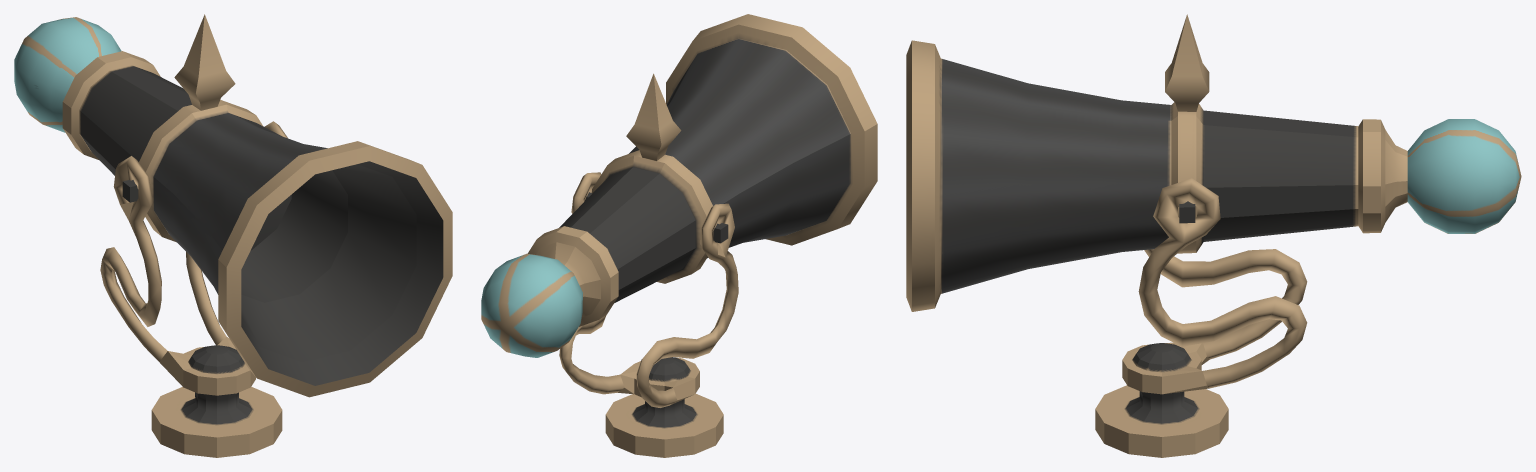
The model's file is light.fbx.
3 renders of one model, left to right at view 1: azimuth 30°, elevation 25°; view 2: azimuth 150°, elevation 25°; view 3: azimuth 270°, elevation 25°, orthographic. The views are drawn at different scales.
Visible parts, largest first — view 1: pCylinder3, pCylinder4; view 2: pCylinder3, pCylinder4; view 3: pCylinder3, pCylinder4.
Boxes of the visible parts, x1,y1,x2,y2 form: pCylinder3: (14,14,452,397); pCylinder4: (100,121,287,457); pCylinder3: (481,14,877,357); pCylinder4: (559,172,738,457); pCylinder3: (906,14,1521,311); pCylinder4: (1095,178,1307,457).
Size of the model in its own units: 2.73 by 4.69 by 6.29.
